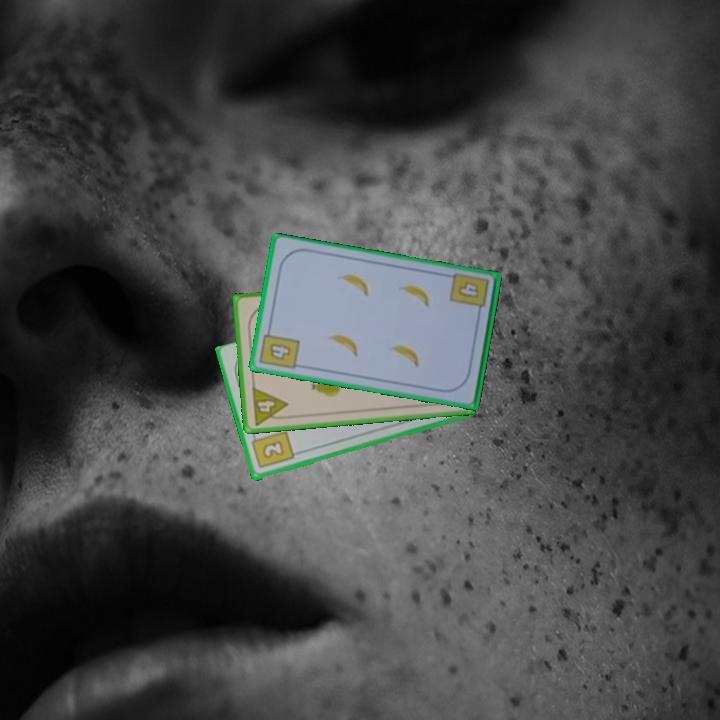2b: (248, 428, 296, 472)
4b: (446, 269, 492, 319), (256, 324, 302, 372)
4p: (248, 383, 291, 428)
